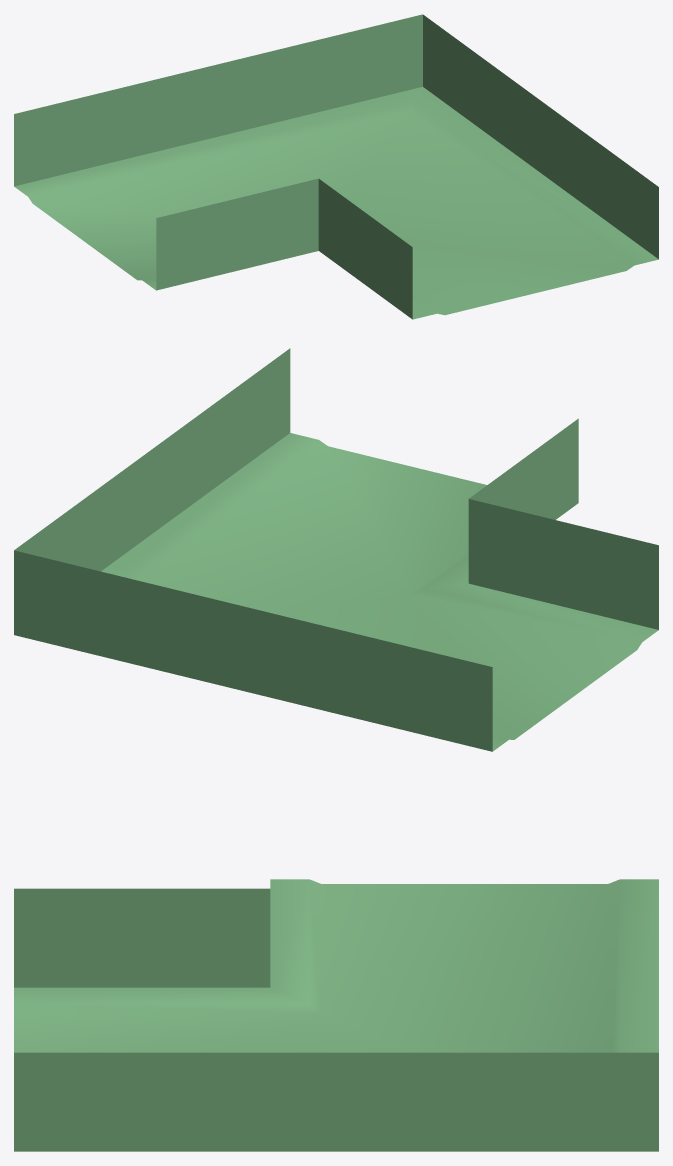
Rendered from Bridge_L_16_A_COL.fbx.
The picture shows the model from 3 angles, top to bottom: view 1: azimuth 30°, elevation 25°; view 2: azimuth 150°, elevation 25°; view 3: azimuth 270°, elevation 25°; orthographic projection. The views are drawn at different scales.
Visible parts, largest first — view 1: Bridge_L_16_A_COL; view 2: Bridge_L_16_A_COL; view 3: Bridge_L_16_A_COL.
Part boxes in pixels (x1=…): Bridge_L_16_A_COL: x1=14, y1=14, x2=658, y2=319; Bridge_L_16_A_COL: x1=14, y1=348, x2=658, y2=751; Bridge_L_16_A_COL: x1=14, y1=879, x2=658, y2=1151.
Size of the model in its own units: 1145 by 203 by 1145.
